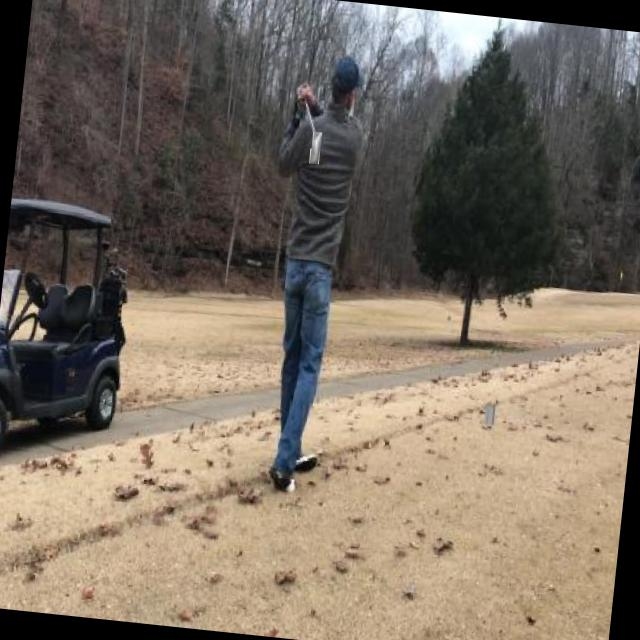club head: (310, 131, 322, 164)
